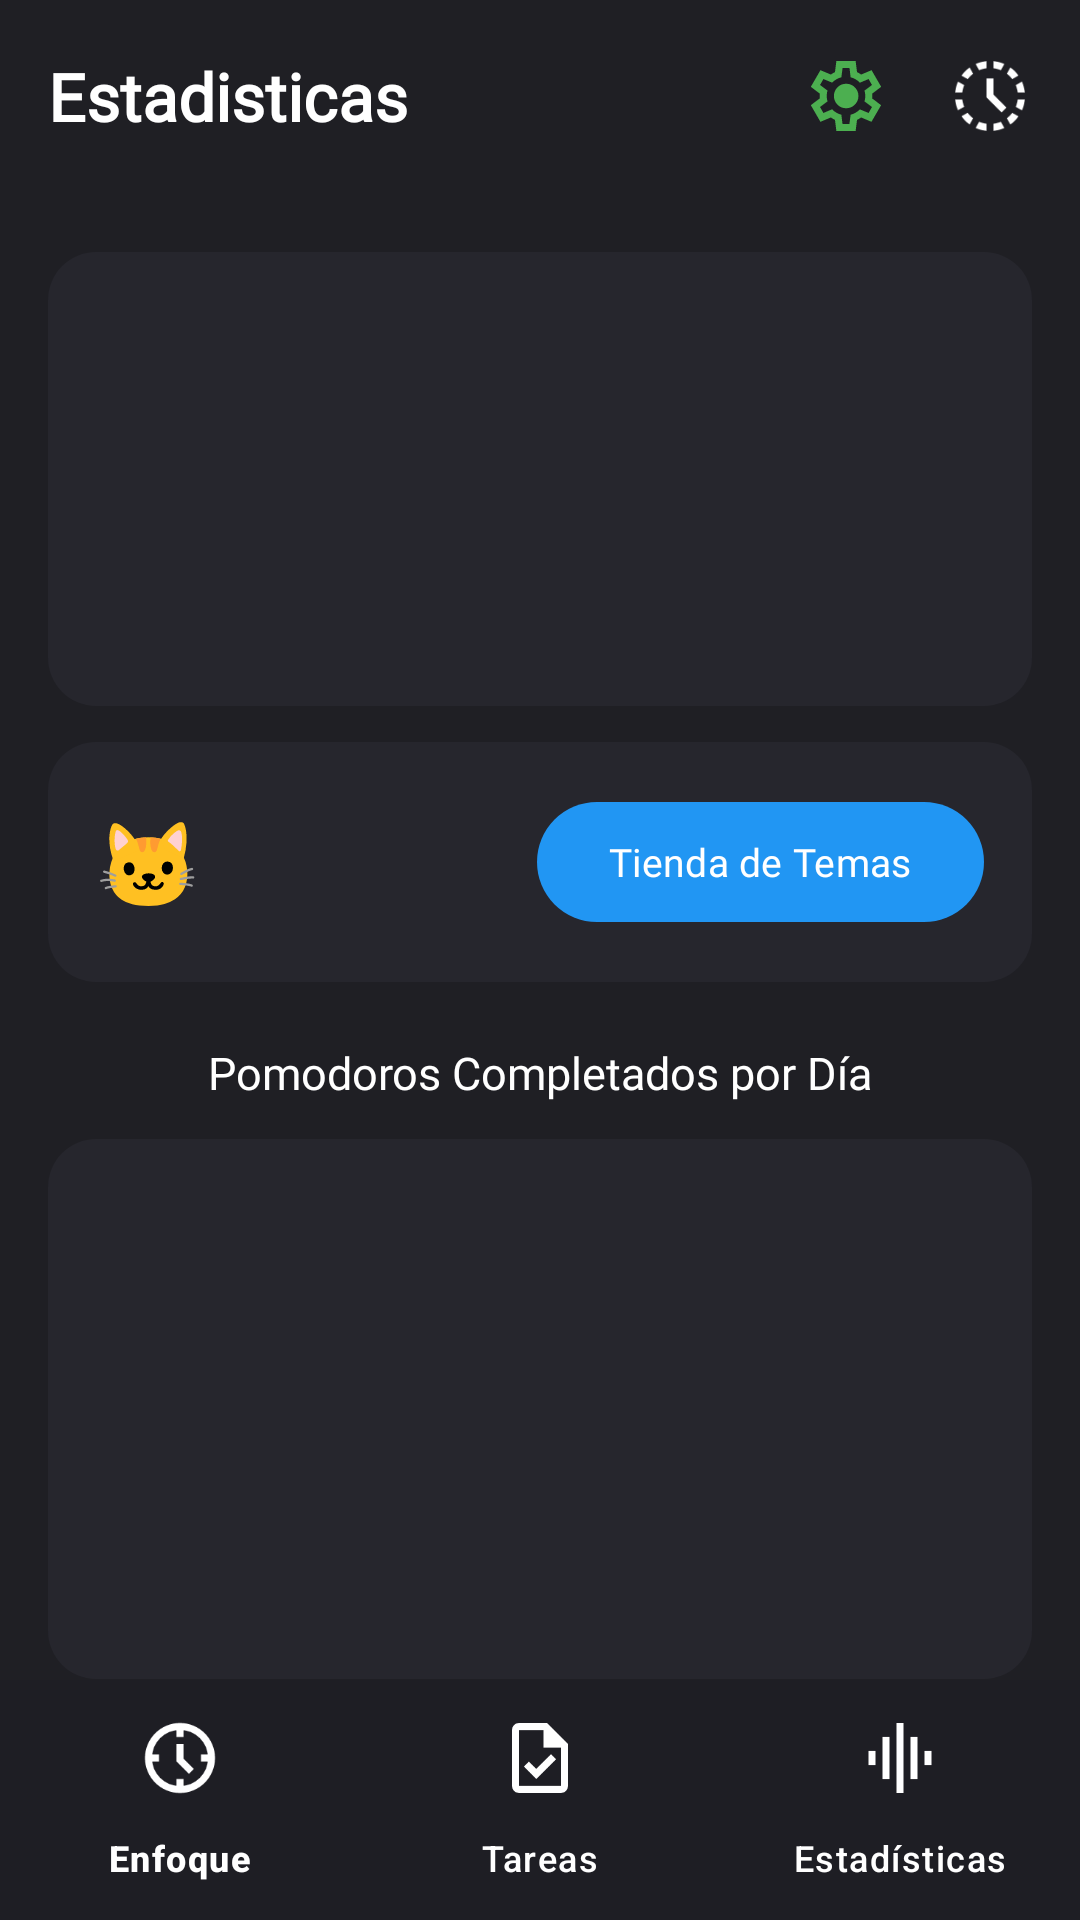

Screen size 1080x1920. Icon name, then its box in pixels as (x1, y1, x2, y2):
config general: (811, 61, 881, 131)
configtiempo: (955, 61, 1025, 131)
